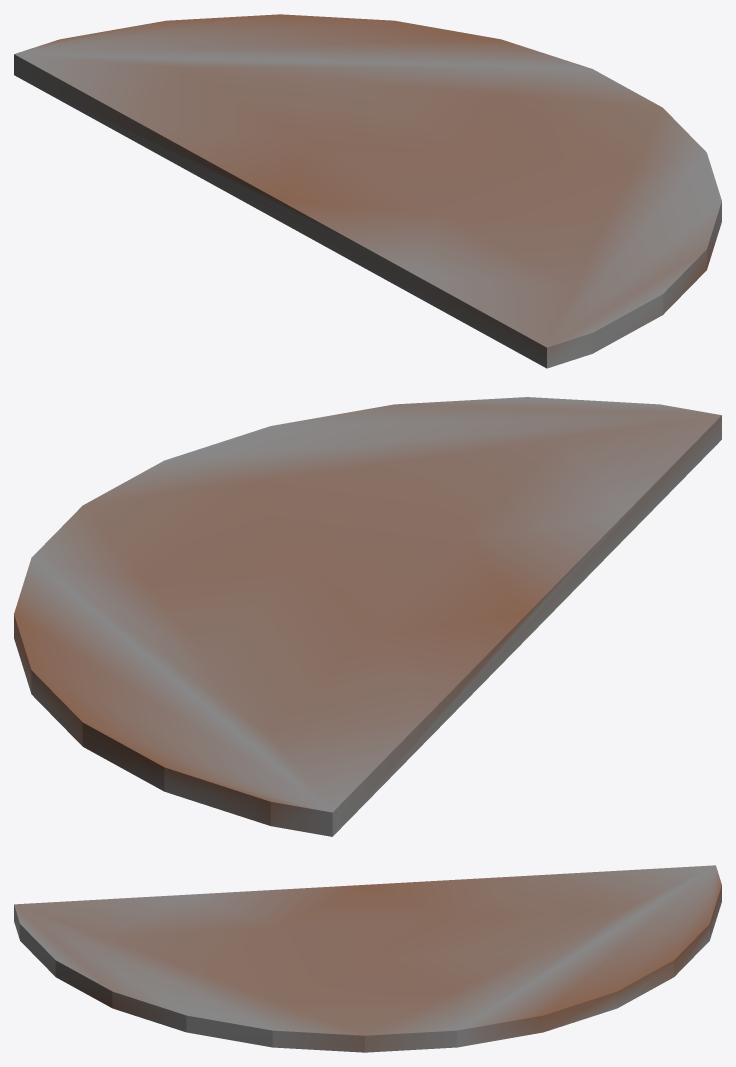
Rendered from trash_door.glb.
3 renders of one model, top to bottom at view 1: azimuth 30°, elevation 25°; view 2: azimuth 150°, elevation 25°; view 3: azimuth 270°, elevation 25°, orthographic. The views are drawn at different scales.
Visible parts, largest first — view 1: Cylinder; view 2: Cylinder; view 3: Cylinder.
Part boxes in pixels (bbox=[...]): Cylinder: bbox=[14, 14, 721, 368]; Cylinder: bbox=[14, 397, 721, 836]; Cylinder: bbox=[14, 865, 721, 1052].
Bounding box in the file's own units: 1.13 × 0.0524 × 1.98.
